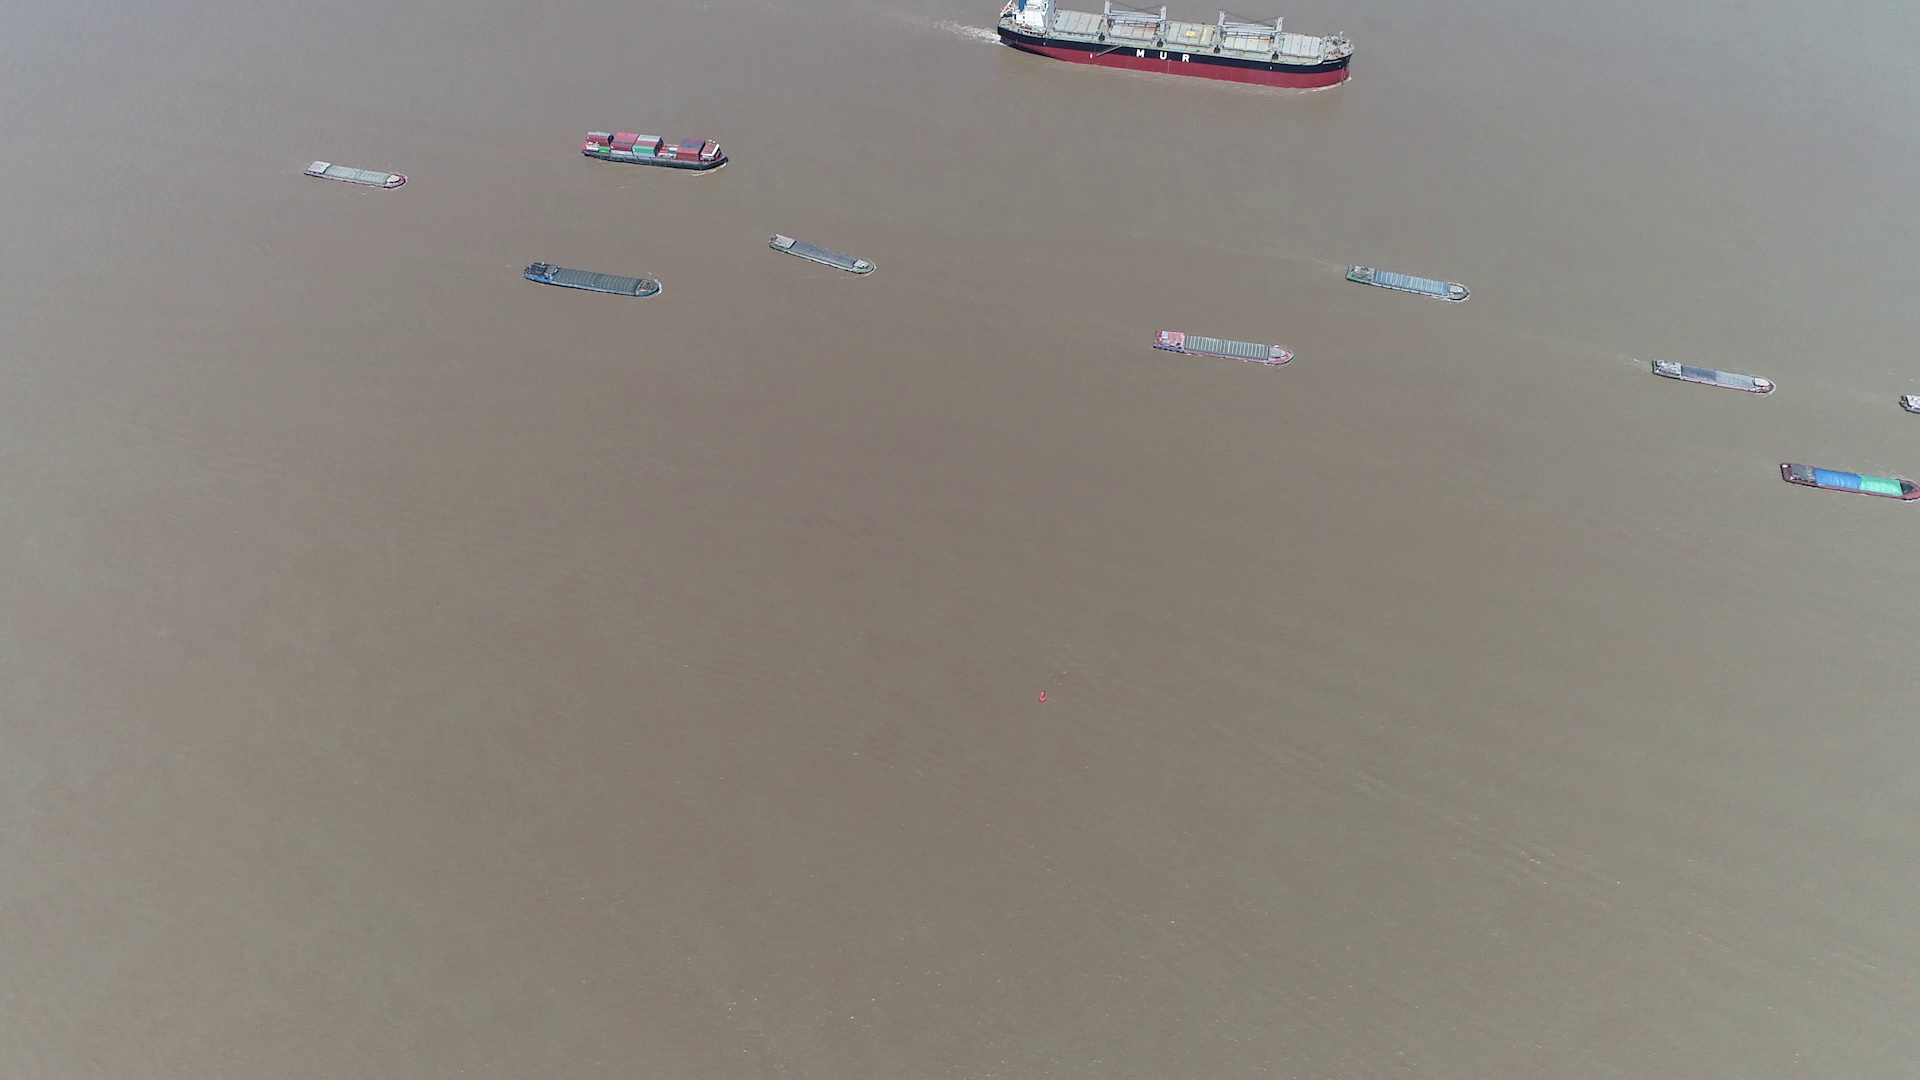ship: (1000, 0, 1352, 87), (1778, 460, 1919, 501), (584, 133, 728, 171), (1154, 328, 1294, 367), (524, 261, 661, 299), (1346, 262, 1469, 302), (1648, 357, 1778, 393), (767, 233, 876, 276), (305, 160, 405, 189)
